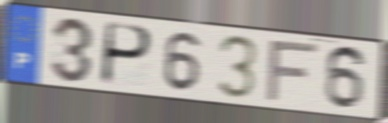3: (49, 15, 95, 86), (215, 32, 259, 102)
6: (324, 44, 373, 113), (162, 30, 203, 94)
F: (263, 39, 322, 104)
P: (98, 20, 155, 88)
